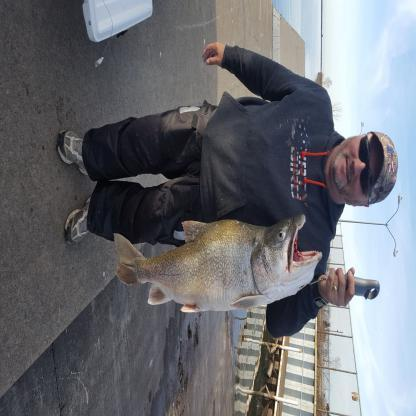fish: (110, 213, 322, 321)
